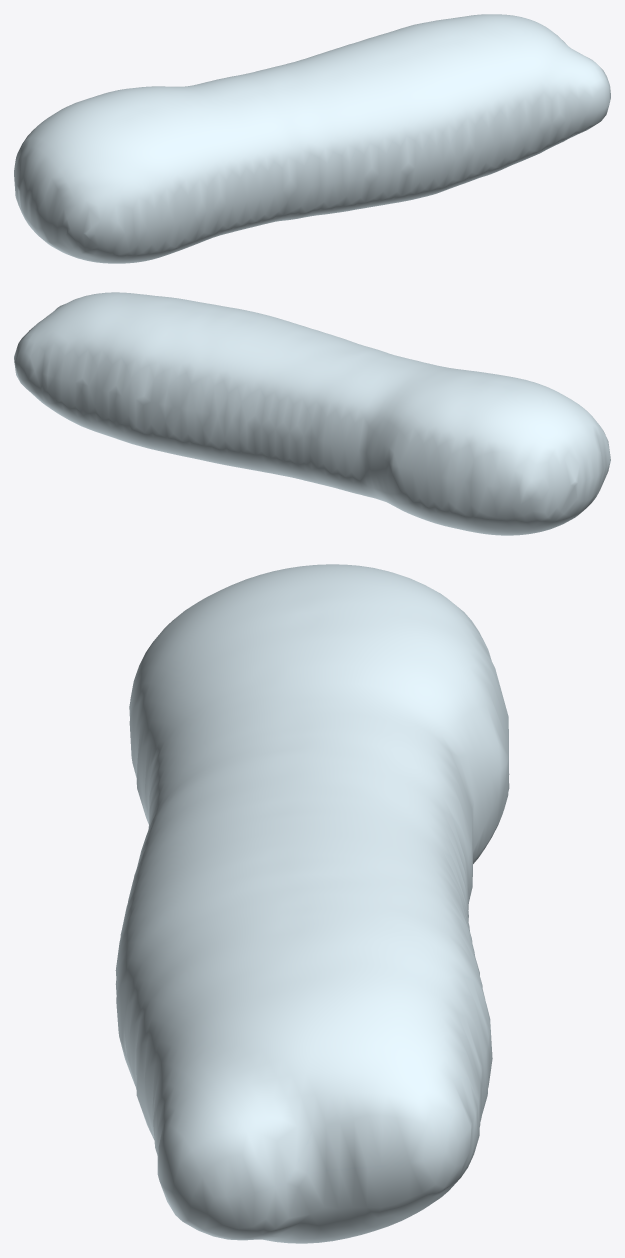
Rendered from Snow Divider.fbx.
3 renders of one model, top to bottom at view 1: azimuth 30°, elevation 25°; view 2: azimuth 150°, elevation 25°; view 3: azimuth 270°, elevation 25°, orthographic. The views are drawn at different scales.
Visible parts, largest first — view 1: root; view 2: root; view 3: root.
Boxes of the visible parts, left/top/right/bottom form: root: left=14, top=14, right=610, bottom=263; root: left=14, top=292, right=610, bottom=535; root: left=115, top=564, right=509, bottom=1243.
Size of the model in its own units: 0.4128 by 0.0969 by 0.1263.
1 material, 1 textured.
